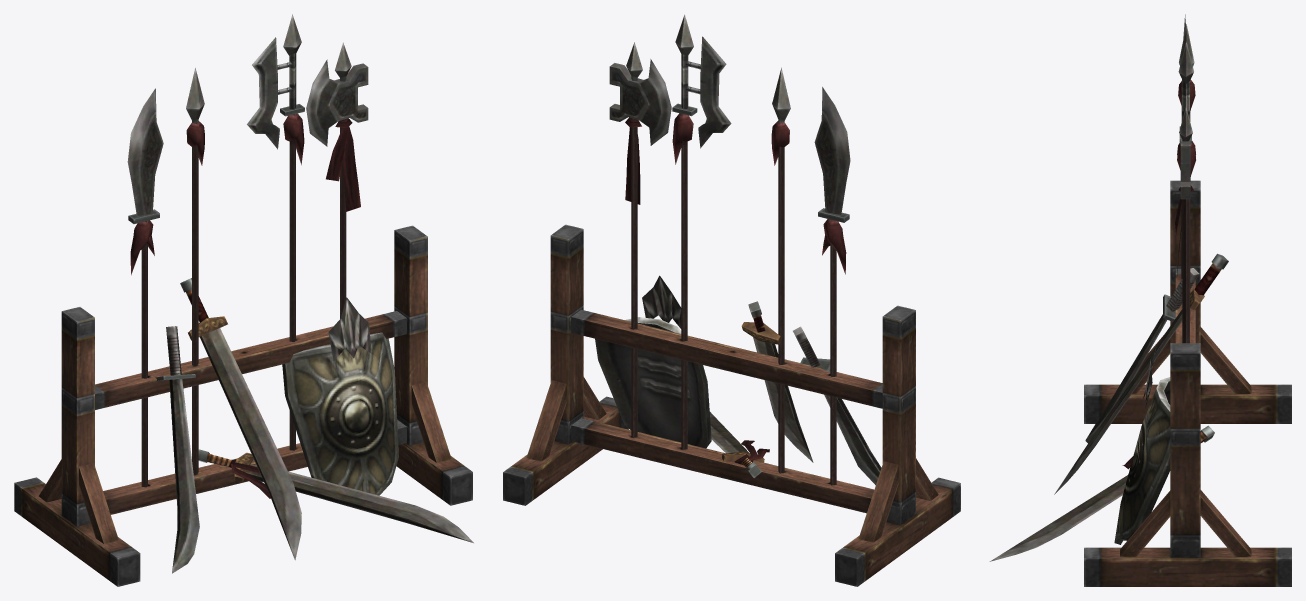
Rendered from wqj.FBX.
The picture shows the model from 3 angles, left to right: view 1: azimuth 30°, elevation 25°; view 2: azimuth 150°, elevation 25°; view 3: azimuth 270°, elevation 25°; orthographic projection.
Parts seen in each view (by area): view 1: WQJ; view 2: WQJ; view 3: WQJ.
Boxes of the visible parts, x1=… form: WQJ: x1=14, y1=14, x2=473, y2=586; WQJ: x1=503, y1=14, x2=960, y2=586; WQJ: x1=989, y1=14, x2=1291, y2=586.
Size of the model in its own units: 164 by 213 by 120.
